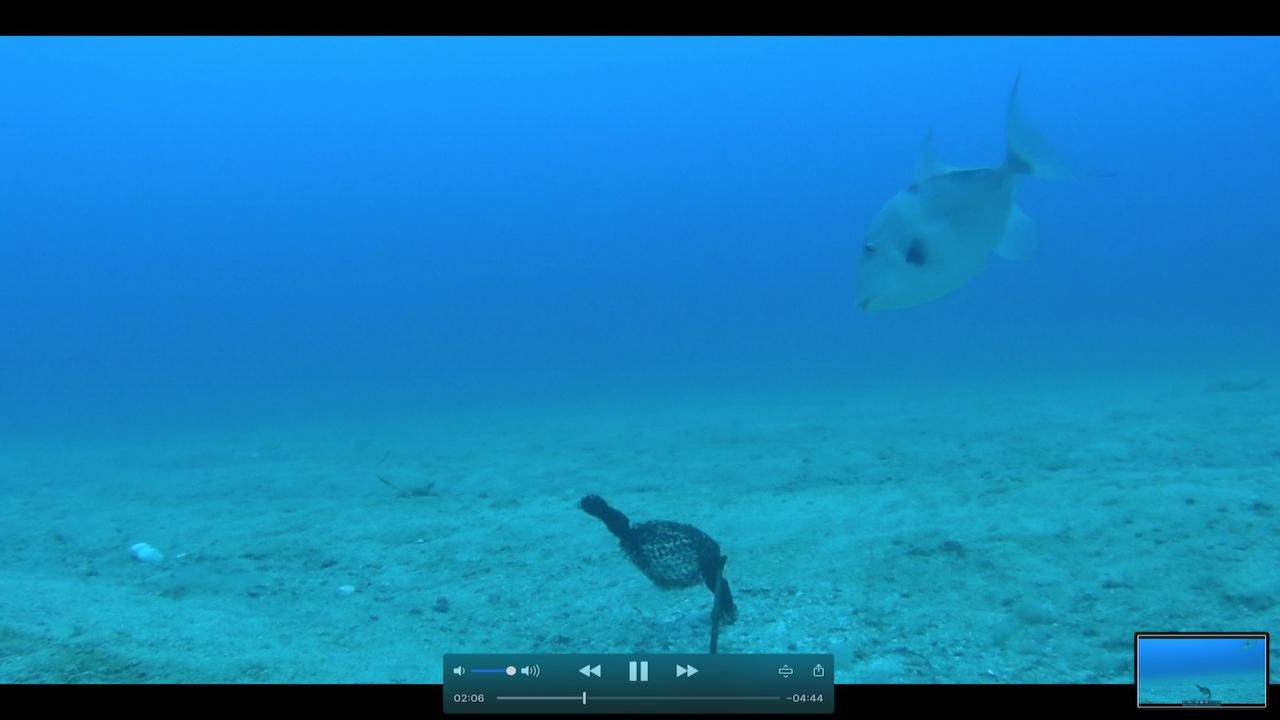balistes: (854, 65, 1125, 313)
